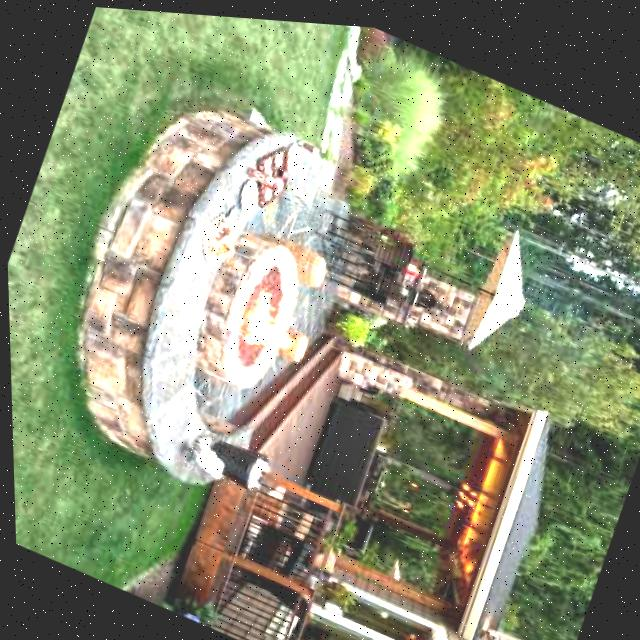Fire: (235, 283, 309, 357)
